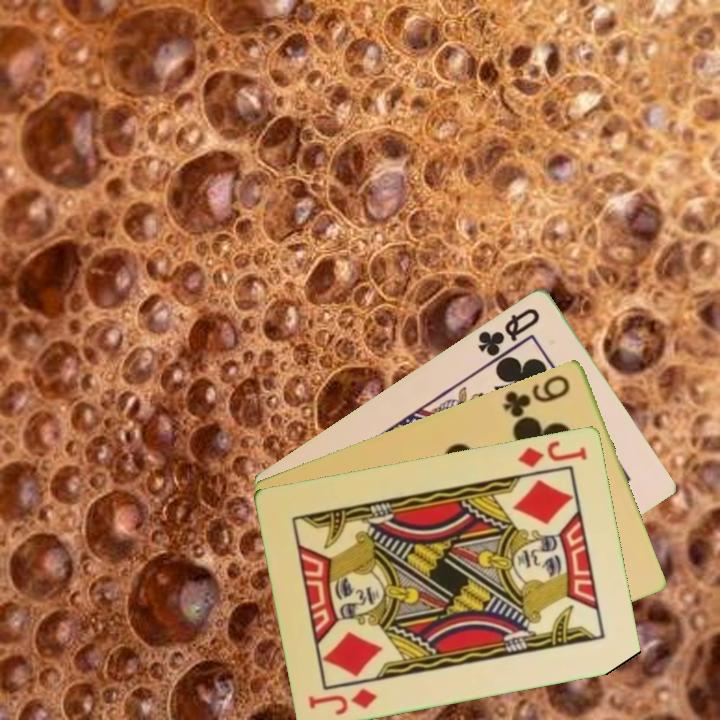9c: (499, 371, 573, 420)
Jd: (514, 436, 591, 470), (305, 684, 381, 718)
Qc: (474, 304, 543, 359)
